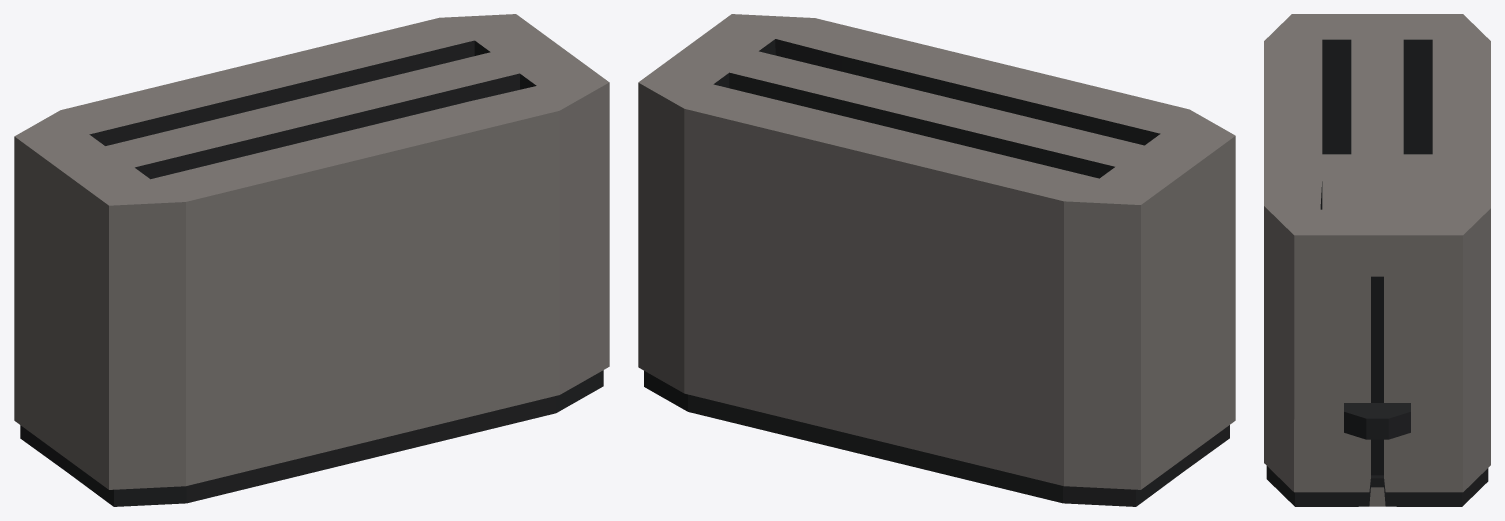
File: toaster_01_A.gltf
3 renders of one model, left to right at view 1: azimuth 30°, elevation 25°; view 2: azimuth 150°, elevation 25°; view 3: azimuth 270°, elevation 25°, orthographic. The views are drawn at different scales.
Visible parts, largest first — view 1: toaster_01_A; view 2: toaster_01_A; view 3: toaster_01_A, Switchfortoaster_01_A.
Part boxes in pixels (x1=…): toaster_01_A: x1=14, y1=14, x2=609, y2=506; toaster_01_A: x1=638, y1=14, x2=1235, y2=506; toaster_01_A: x1=1264, y1=14, x2=1490, y2=506; Switchfortoaster_01_A: x1=1344, y1=403, x2=1410, y2=439.
Bounding box in the file's own units: 0.371 × 0.2 × 0.15.
1 material, 1 textured.
